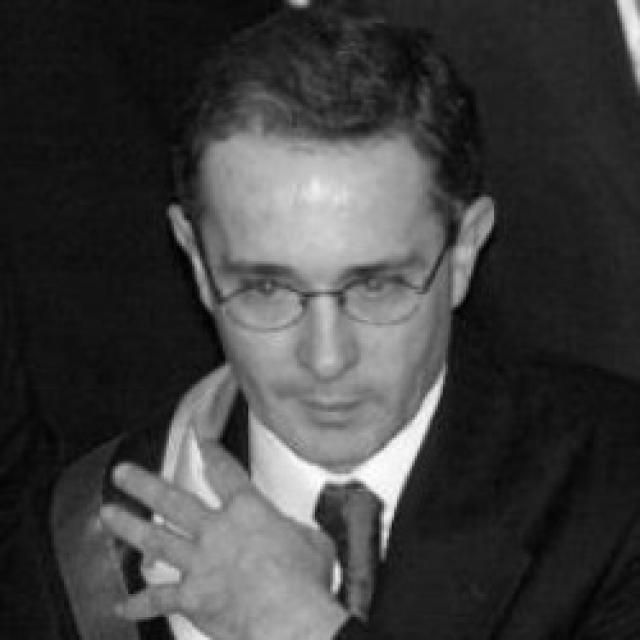real: (154, 28, 506, 462), (225, 265, 417, 324)
